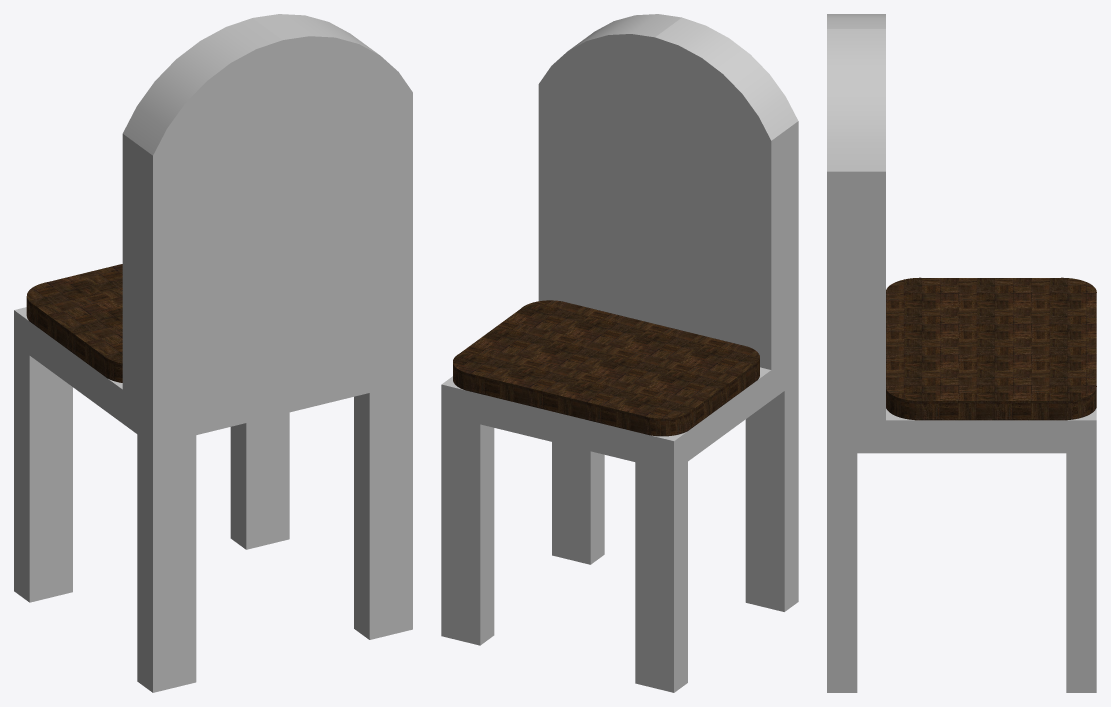
3 renders of one model, left to right at view 1: azimuth 30°, elevation 25°; view 2: azimuth 150°, elevation 25°; view 3: azimuth 270°, elevation 25°, orthographic. The views are drawn at different scales.
Parts seen in each view (by area): view 1: mesh3_mesh3-geometry, mesh1_mesh1-geometry; view 2: mesh3_mesh3-geometry, mesh1_mesh1-geometry; view 3: mesh3_mesh3-geometry, mesh1_mesh1-geometry.
Part boxes in pixels (left/top/right/bottom): mesh3_mesh3-geometry: left=14, top=14, right=412, bottom=692; mesh1_mesh1-geometry: left=26, top=264, right=122, bottom=382; mesh3_mesh3-geometry: left=441, top=14, right=798, bottom=692; mesh1_mesh1-geometry: left=453, top=300, right=759, bottom=436; mesh3_mesh3-geometry: left=827, top=14, right=1096, bottom=692; mesh1_mesh1-geometry: left=886, top=277, right=1096, bottom=420.
Size of the model in its own units: 0.3767 by 0.8583 by 0.3484.
